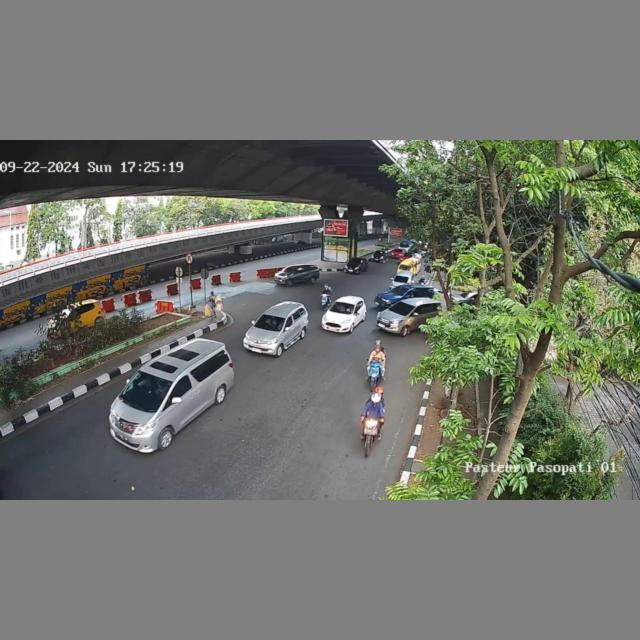windshield: (119, 370, 176, 416), (257, 314, 285, 332), (389, 301, 415, 315), (331, 302, 356, 315)
